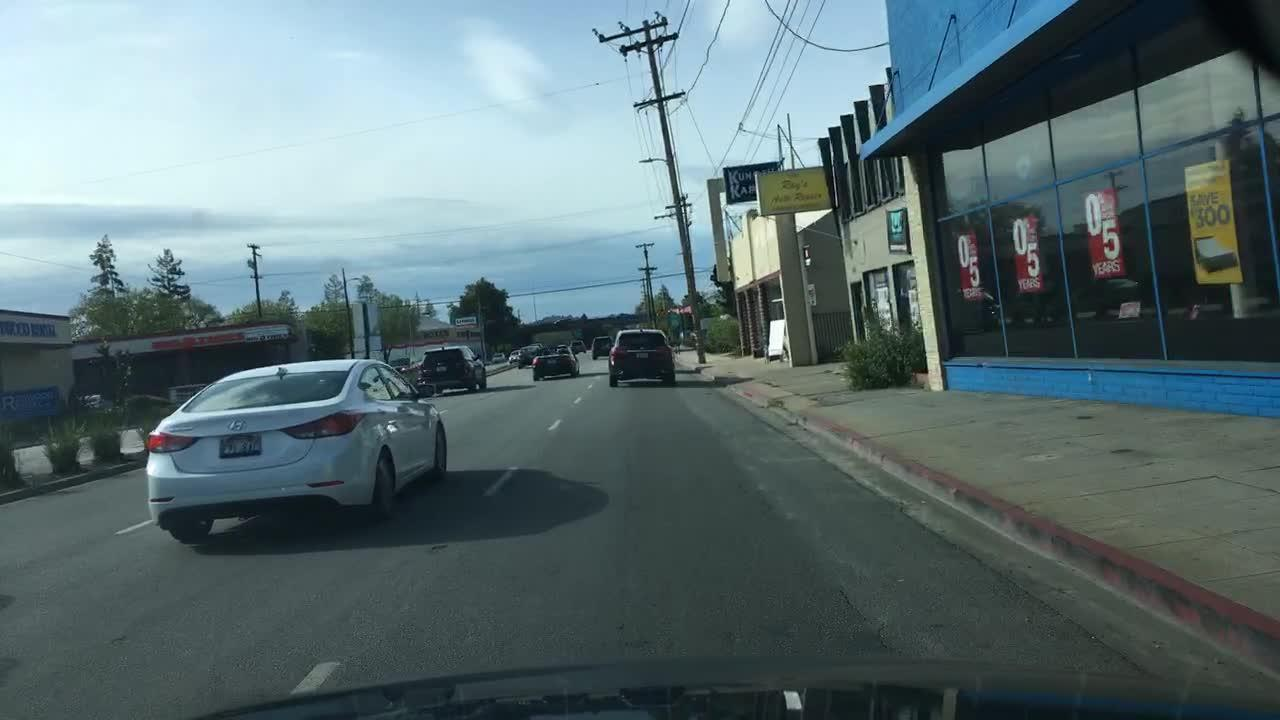Hyundai: (224, 415, 254, 437)
